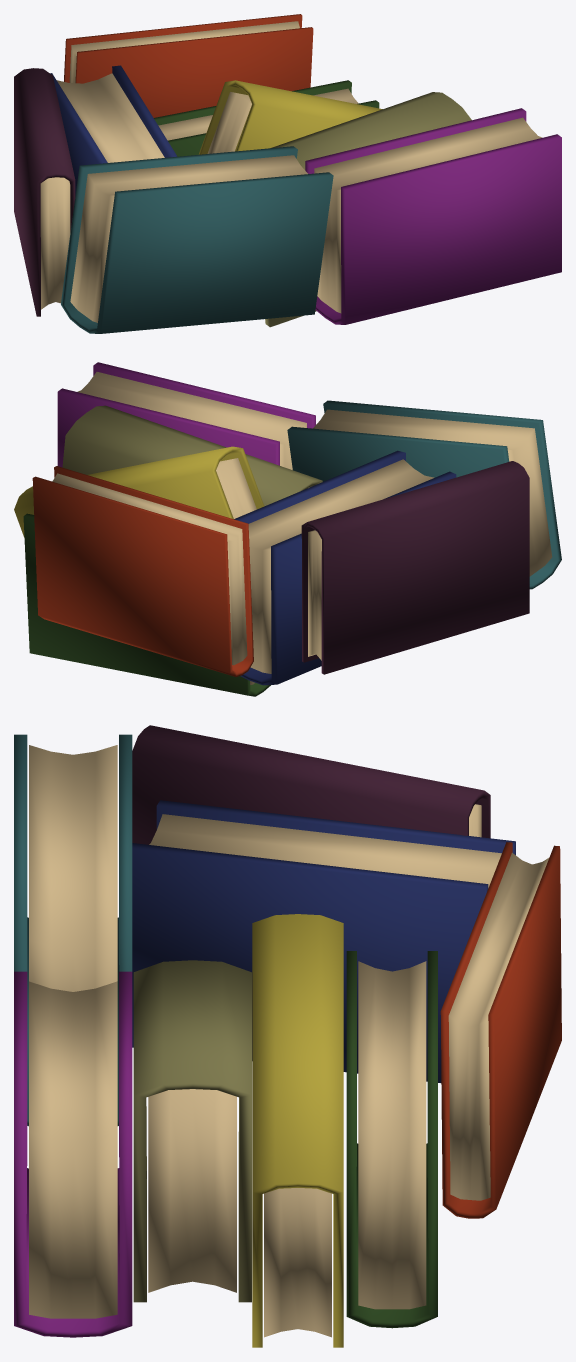
Rendered from kitap_yigini_1.fbx.
3 renders of one model, top to bottom at view 1: azimuth 30°, elevation 25°; view 2: azimuth 150°, elevation 25°; view 3: azimuth 270°, elevation 25°, orthographic. The views are drawn at different scales.
Parts seen in each view (by area): view 1: Cube.079, Cube.075, Cube.078, Cube.083, Cube.082, Cube.077, Cube.076, Cube.080, Cube.081; view 2: Cube.082, Cube.083, Cube.078, Cube.079, Cube.076, Cube.081, Cube.080, Cube.075, Cube.077; view 3: Cube.078, Cube.080, Cube.077, Cube.082, Cube.076, Cube.083, Cube.075, Cube.081, Cube.079.
Boxes of the visible parts, box(x1,y1,x2,y2) form: Cube.079: box(61, 146, 333, 333); Cube.075: box(305, 108, 561, 324); Cube.078: box(40, 21, 541, 322); Cube.083: box(64, 14, 313, 117); Cube.082: box(14, 68, 75, 316); Cube.077: box(198, 80, 382, 154); Cube.076: box(265, 92, 471, 327); Cube.080: box(50, 65, 177, 195); Cube.081: box(154, 80, 379, 156); Cube.082: box(301, 461, 529, 674); Cube.083: box(32, 466, 253, 676); Cube.078: box(52, 372, 552, 684); Cube.079: box(287, 400, 561, 589); Cube.076: box(62, 405, 322, 506); Cube.081: box(23, 513, 270, 696); Cube.080: box(234, 450, 456, 685); Cube.075: box(57, 362, 315, 467); Cube.077: box(14, 446, 264, 537); Cube.078: box(29, 745, 548, 1337); Cube.080: box(132, 800, 515, 1082); Cube.077: box(252, 914, 343, 1347); Cube.082: box(132, 725, 490, 844); Cube.076: box(133, 960, 251, 1302); Cube.083: box(440, 842, 561, 1218); Cube.075: box(14, 971, 132, 1337); Cube.081: box(346, 951, 437, 1328); Cube.079: box(14, 734, 132, 1126).
Size of the model in its own units: 96.56 by 46.29 by 65.13.
